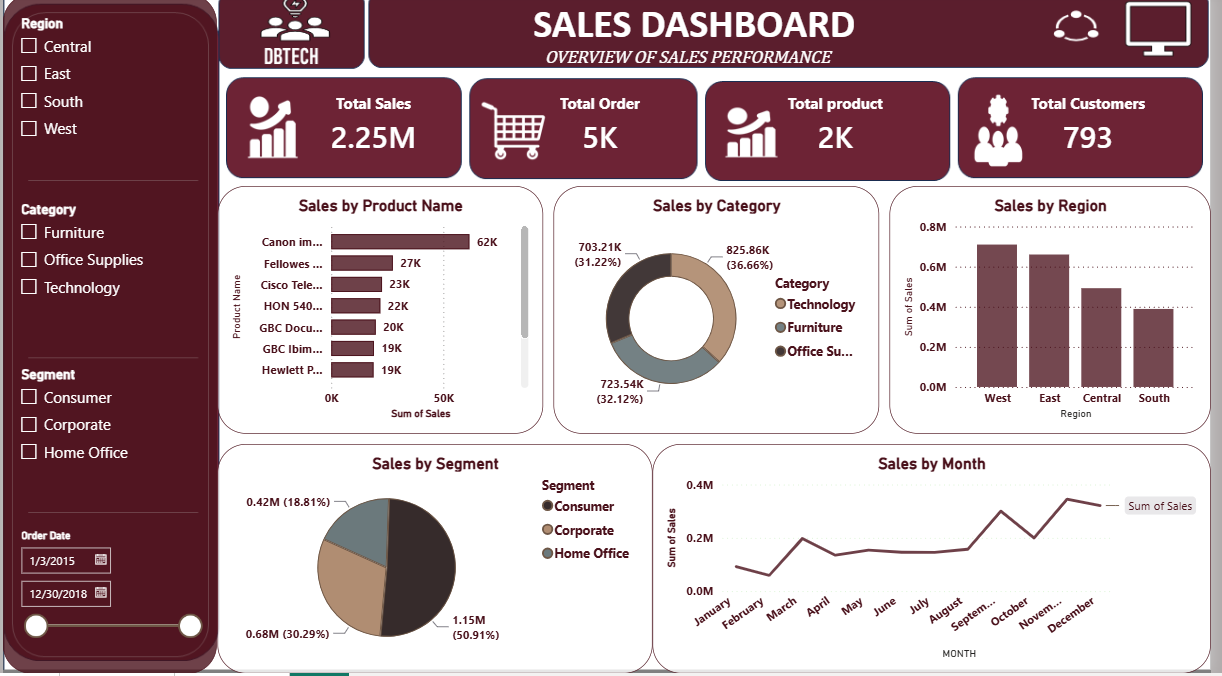

The dashboard page shown, as its layout file describes it:
{"tool":"powerbi","page":{"name":"Page 3","canvas":[1280,720],"ordinal":2},"visuals":[{"type":"textbox","box":[0,0,226.7,720.6],"z":0},{"type":"lineChart","title":"Sales by Month ","fields":{"Category":["PORT.MONTH"],"Y":["Sum(PORT.Sales)"]},"box":[688.7,477.2,591.7,243.4],"z":1000},{"type":"pieChart","title":"Sales by Segment","fields":{"Category":["PORT.Segment"],"Y":["Sum(PORT.Sales)"]},"box":[227.5,477.2,461.3,243.4],"z":2000},{"type":"clusteredBarChart","title":" Sales by Product Name","fields":{"Category":["PORT.Product Name"],"Y":["Sum(PORT.Sales)"]},"box":[227.5,203.6,345.2,262.5],"z":3000},{"type":"donutChart","title":" Sales by Category","fields":{"Category":["PORT.Category"],"Y":["Sum(PORT.Sales)"]},"box":[583.8,203.6,345.2,262.5],"z":4000},{"type":"clusteredColumnChart","title":" Sales by Region","fields":{"Category":["PORT.Region"],"Y":["Sum(PORT.Sales)"]},"box":[940.1,203.6,340.4,262.5],"z":5000},{"type":"slicer","fields":{"Values":["PORT.Category"]},"box":[6.4,214.7,213.1,159.1],"z":6000},{"type":"slicer","fields":{"Values":["PORT.Region"]},"box":[6.4,17.5,213.1,171.8],"z":7000},{"type":"slicer","fields":{"Values":["PORT.Order Date"]},"box":[6.4,563.1,213.1,140],"z":8000},{"type":"cardVisual","fields":{"Data":["PORT.Total Sales"]},"box":[276.8,87.5,232.2,101.8],"z":9000},{"type":"cardVisual","fields":{"Data":["PORT.Total Order"]},"box":[509,87.5,248.1,101.8],"z":10000},{"type":"cardVisual","fields":{"Data":["PORT.Total Customers"]},"box":[1021.2,87.5,259.3,101.8],"z":11000},{"type":"cardVisual","fields":{"Data":["PORT.Total product"]},"box":[757.1,87.5,251.3,101.8],"z":12000},{"type":"slicer","fields":{"Values":["PORT.Segment"]},"box":[6.4,389.7,213.1,151.1],"z":13000},{"type":"textbox","box":[400.8,0,558.3,87.5],"z":14000}]}

Visuals, with their boxes in screenshot pixels (x1, y1, x2, y2), scaled from the page's 1280x720 canvas onto the 1222x676 screenshot:
textbox: bbox=[0, 0, 216, 675]
"Sales by Month " lineChart: bbox=[657, 448, 1221, 675]
"Sales by Segment" pieChart: bbox=[217, 448, 658, 675]
" Sales by Product Name" clusteredBarChart: bbox=[217, 191, 547, 438]
" Sales by Category" donutChart: bbox=[557, 191, 887, 438]
" Sales by Region" clusteredColumnChart: bbox=[898, 191, 1221, 438]
slicer - PORT.Category: bbox=[6, 202, 210, 351]
slicer - PORT.Region: bbox=[6, 16, 210, 178]
slicer - PORT.Order Date: bbox=[6, 529, 210, 660]
cardVisual - PORT.Total Sales: bbox=[264, 82, 486, 178]
cardVisual - PORT.Total Order: bbox=[486, 82, 723, 178]
cardVisual - PORT.Total Customers: bbox=[975, 82, 1221, 178]
cardVisual - PORT.Total product: bbox=[723, 82, 963, 178]
slicer - PORT.Segment: bbox=[6, 366, 210, 508]
textbox: bbox=[383, 0, 916, 82]
